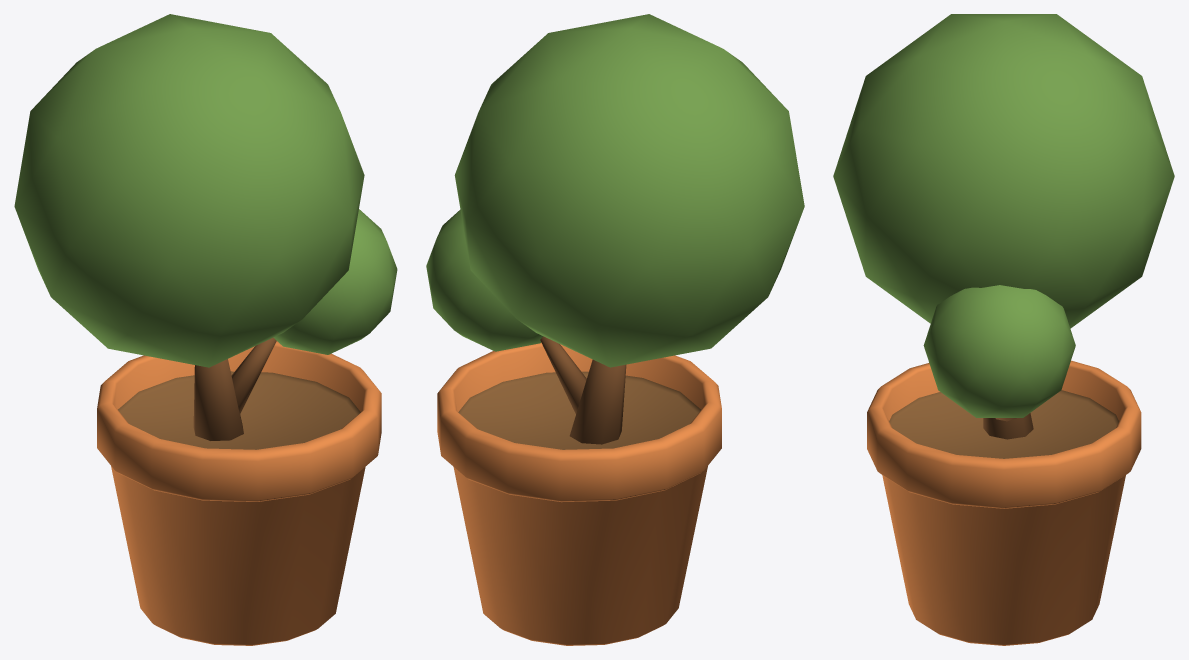
File: potted_plant.fbx
3 views of the same model, side by side, from view 1: azimuth 30°, elevation 25°; view 2: azimuth 150°, elevation 25°; view 3: azimuth 270°, elevation 25° (orthographic). The views are drawn at different scales.
Parts seen in each view (by area): view 1: potted_plant; view 2: potted_plant; view 3: potted_plant.
Boxes of the visible parts, <box> form: potted_plant: <box>14,14,397,645</box>; potted_plant: <box>426,14,804,645</box>; potted_plant: <box>833,14,1174,645</box>.
Size of the model in its own units: 110 by 181 by 99.59.
